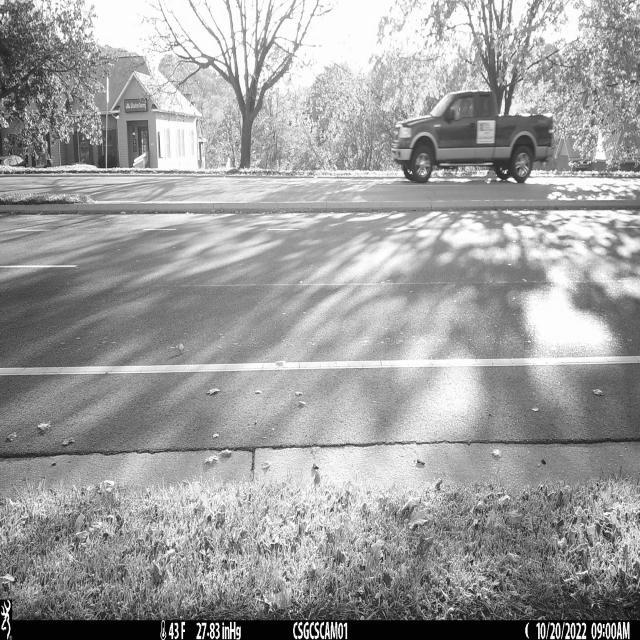Pickup: (391, 90, 556, 184)
